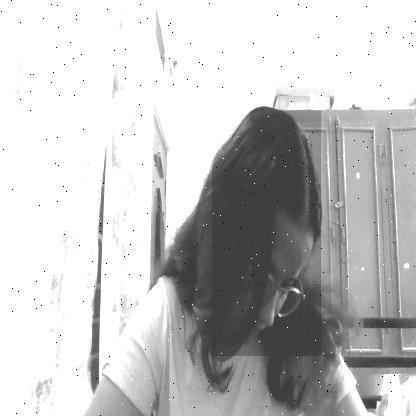Distracted: (212, 96, 321, 356)
